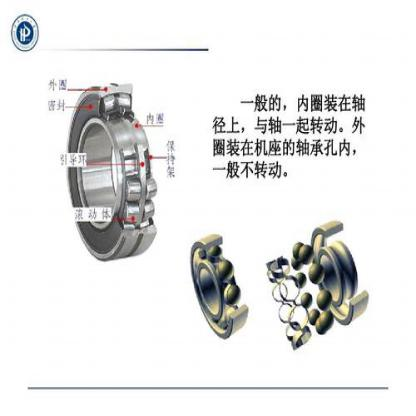FOD: (66, 78, 160, 264), (181, 232, 252, 342)
